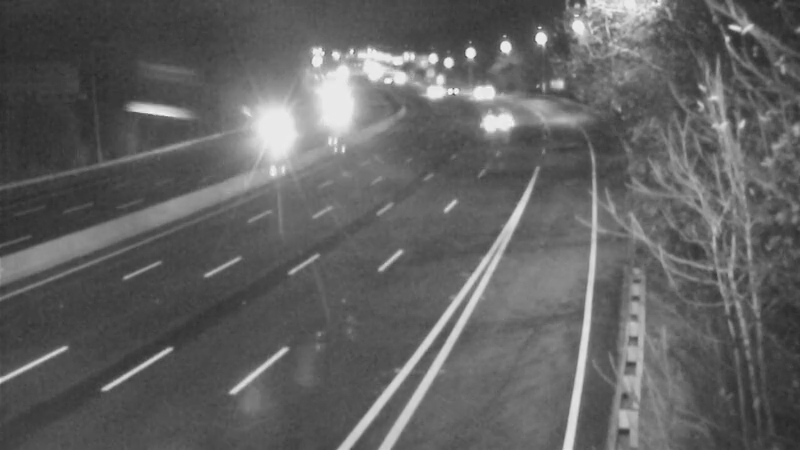vehicle: (372, 54, 422, 104), (401, 67, 451, 117), (427, 65, 477, 115), (451, 70, 501, 120), (470, 90, 520, 140), (251, 101, 301, 151)
